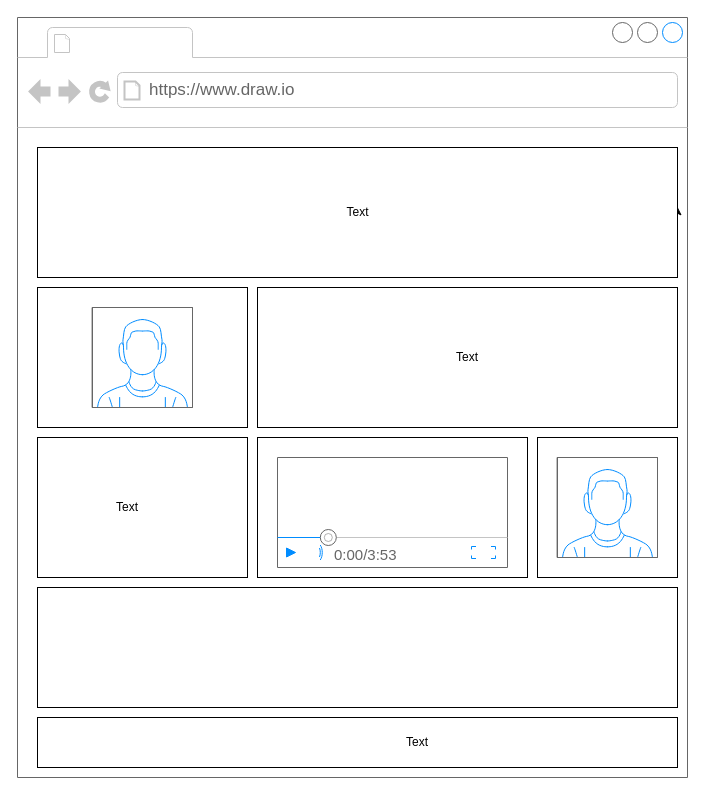
Some shapes in this 705 by 795 pixel diagram are drawn without their labels. The shapes that lost their labels are listed below. From the top down, each one's box as (x1, y1, x2, y2) in pixels, then its label:
(76, 28, 188, 56): Page 1
(36, 586, 678, 708): jelnfvjdedcisek sm vsjk mkxcv,db/v kldrdm r k, xn
